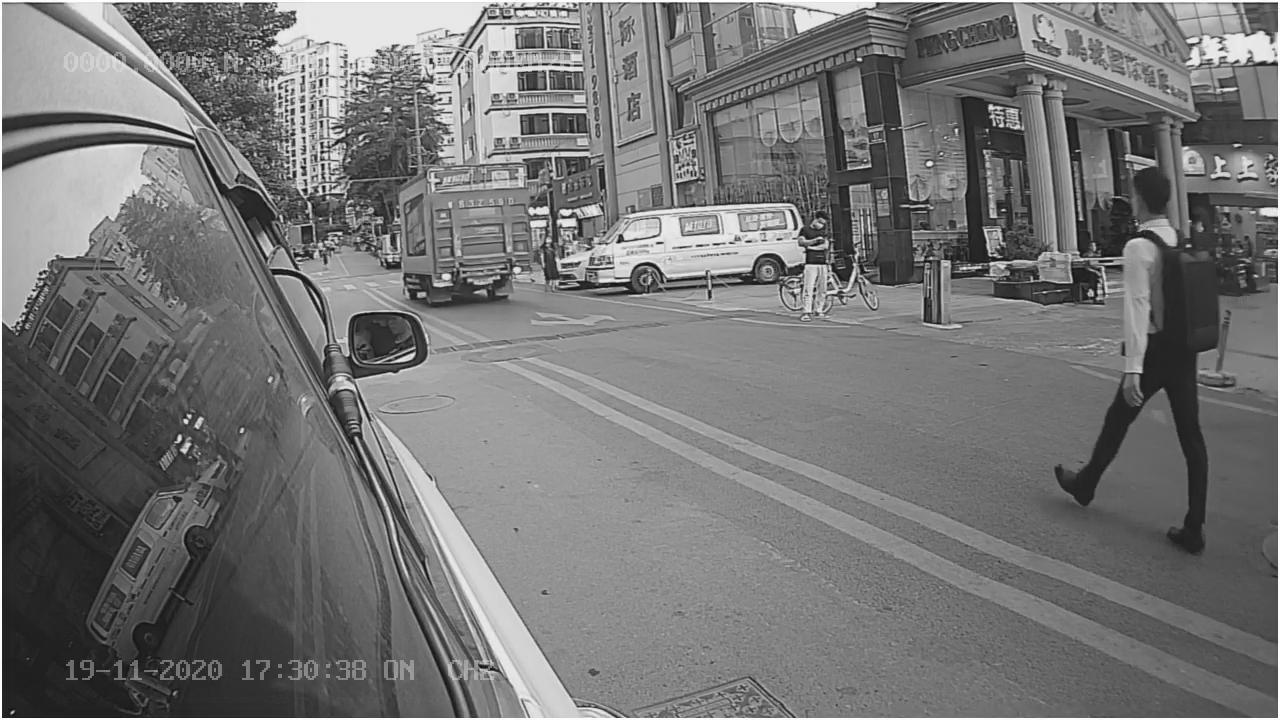person: (1079, 158, 1217, 528)
